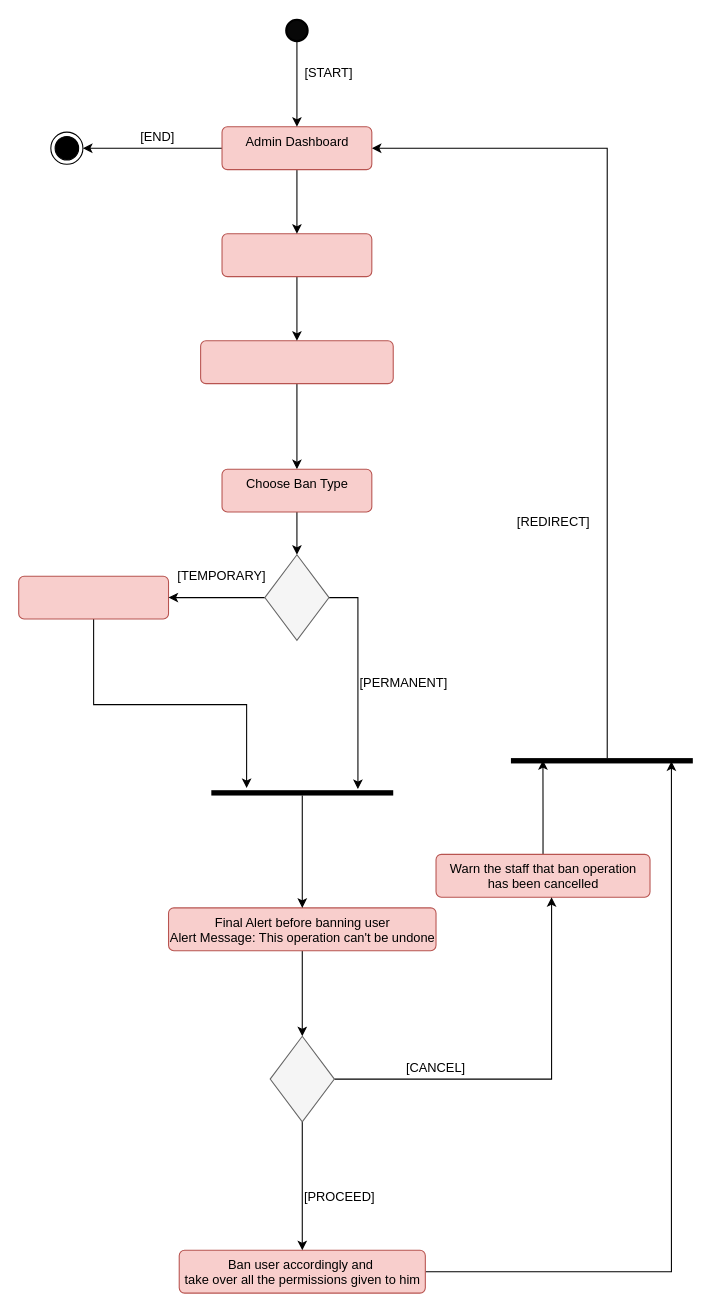
Image size: 712x1312. Some labels were removed from this diagram. The shapes that lost their labels are listed below. From the top down, each one's centre as x and y in pixels, then its label:
At point (296, 255): "Click Prohibit user".
At point (296, 362): "Select any user from the given list".
At point (93, 597): "Ask ban time".
